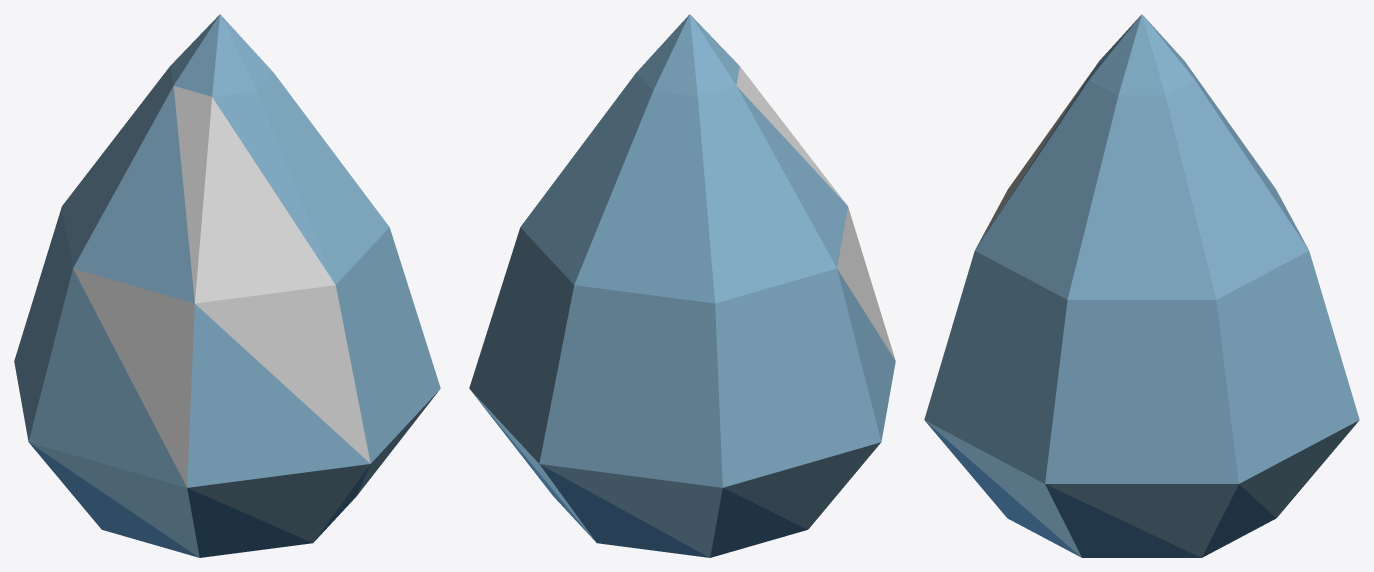
File: nest-drop.glb
The picture shows the model from 3 angles, left to right: view 1: azimuth 30°, elevation 25°; view 2: azimuth 150°, elevation 25°; view 3: azimuth 270°, elevation 25°; orthographic projection.
Size of the model in its own units: 1.81 by 2.5 by 1.85.
